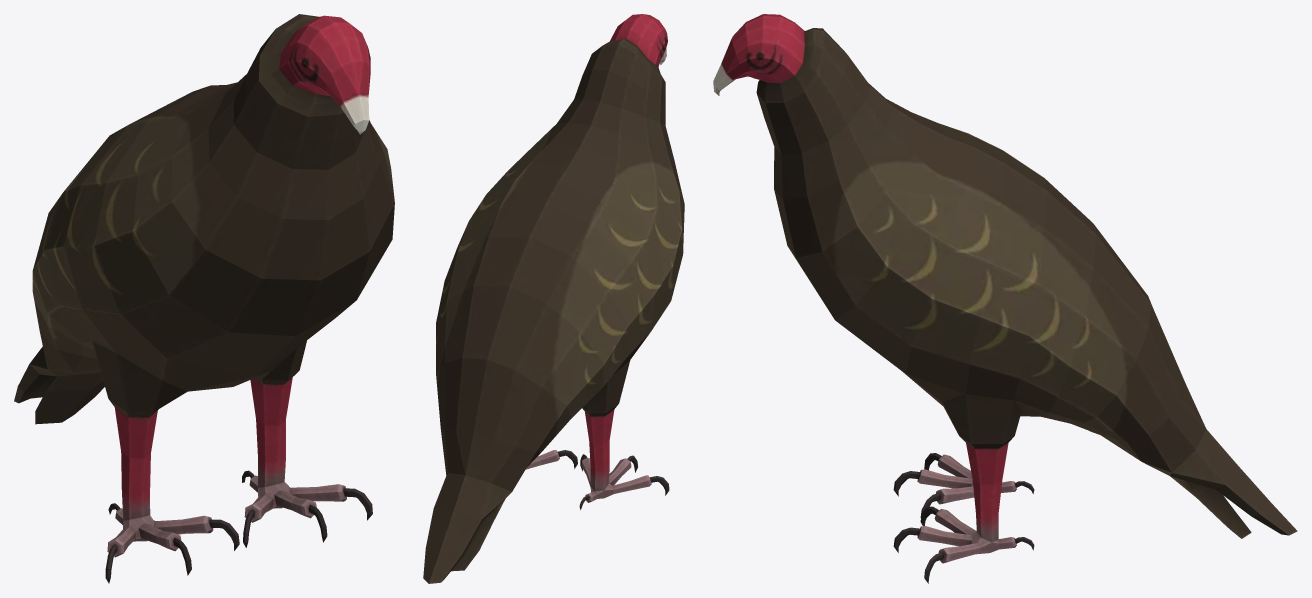
File: vulture.glb
3 renders of one model, left to right at view 1: azimuth 30°, elevation 25°; view 2: azimuth 150°, elevation 25°; view 3: azimuth 270°, elevation 25°, orthographic. The views are drawn at different scales.
Parts seen in each view (by area): view 1: TurkeyVulture_mesh2; view 2: TurkeyVulture_mesh2; view 3: TurkeyVulture_mesh2.
Part boxes in pixels (box(x1,y1,x2,y2)): TurkeyVulture_mesh2: box(14, 14, 394, 583); TurkeyVulture_mesh2: box(423, 14, 684, 583); TurkeyVulture_mesh2: box(713, 14, 1297, 583).
Bounding box in the file's own units: 5.38 × 10.81 × 11.09.
Materials: 1 (1 with a texture image).
